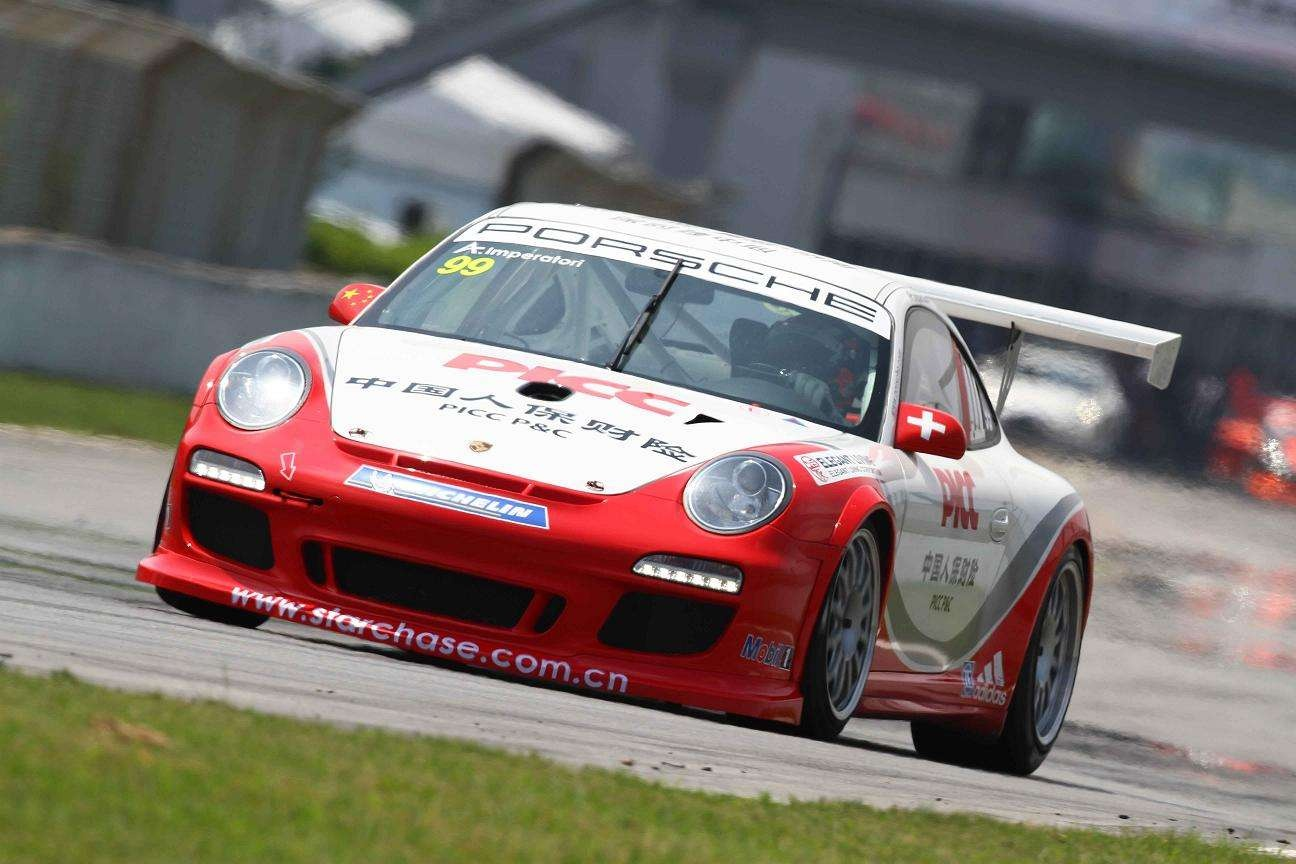racing car: (153, 160, 1173, 798)
